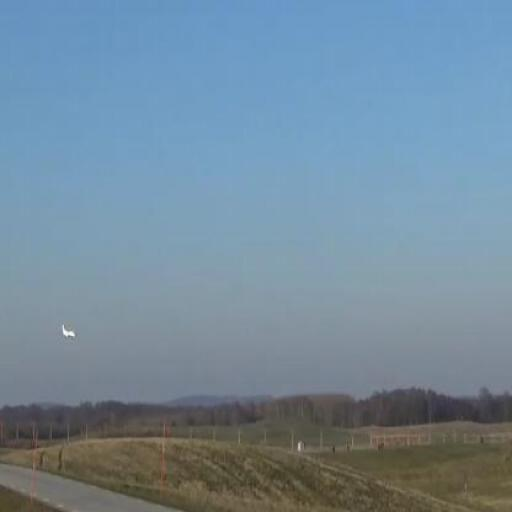aircraft: (61, 325, 76, 338)
